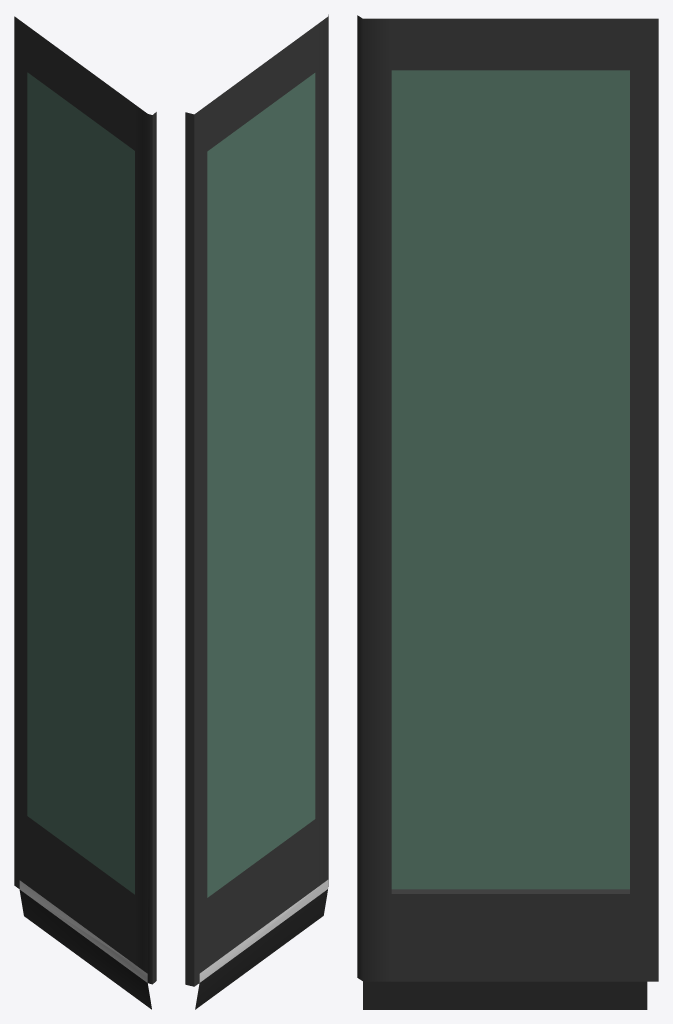
The model's file is BifoldDoor_HingedPanel.glb.
3 views of the same model, side by side, from view 1: azimuth 30°, elevation 25°; view 2: azimuth 150°, elevation 25°; view 3: azimuth 270°, elevation 25° (orthographic). The views are drawn at different scales.
Visible parts, largest first — view 1: 側面L-前扉1; view 2: 側面L-前扉1; view 3: 側面L-前扉1.
Boxes of the visible parts, x1,y1,x2,y2 form: 側面L-前扉1: (14,16,156,1009); 側面L-前扉1: (185,14,328,1009); 側面L-前扉1: (357,15,658,1009).
Size of the model in its own units: 0.02 by 1.93 by 0.53.
